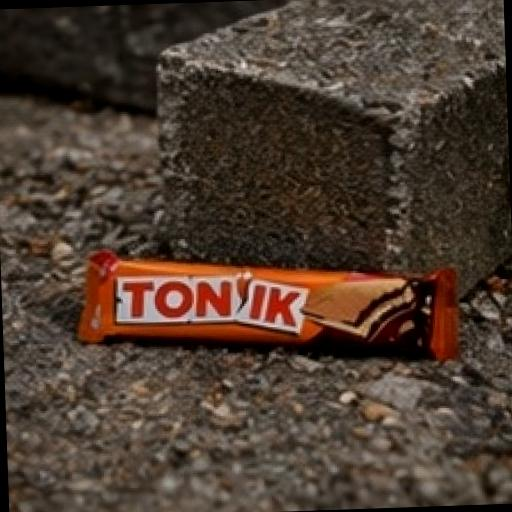tonik: (30, 192, 490, 444)
